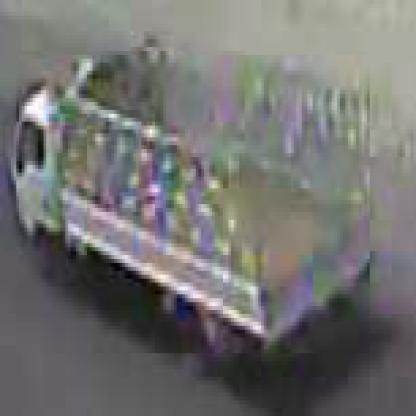truck: (18, 52, 374, 358)
